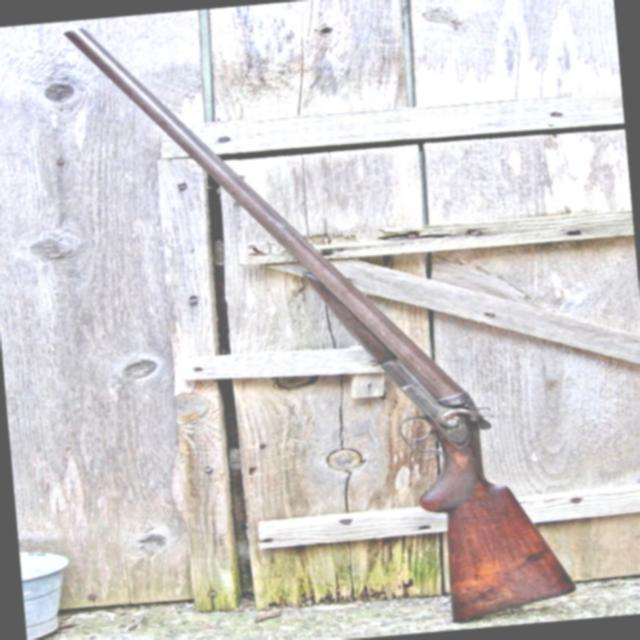shotgun: (1, 0, 640, 640)
